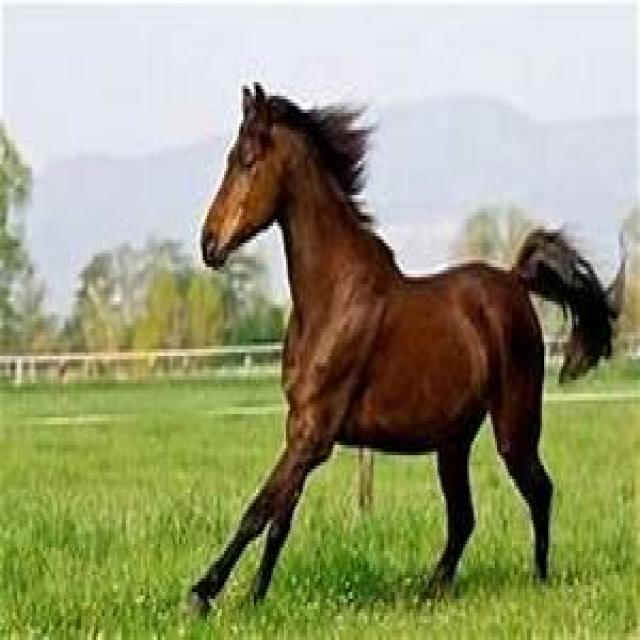horse: (188, 86, 610, 616)
